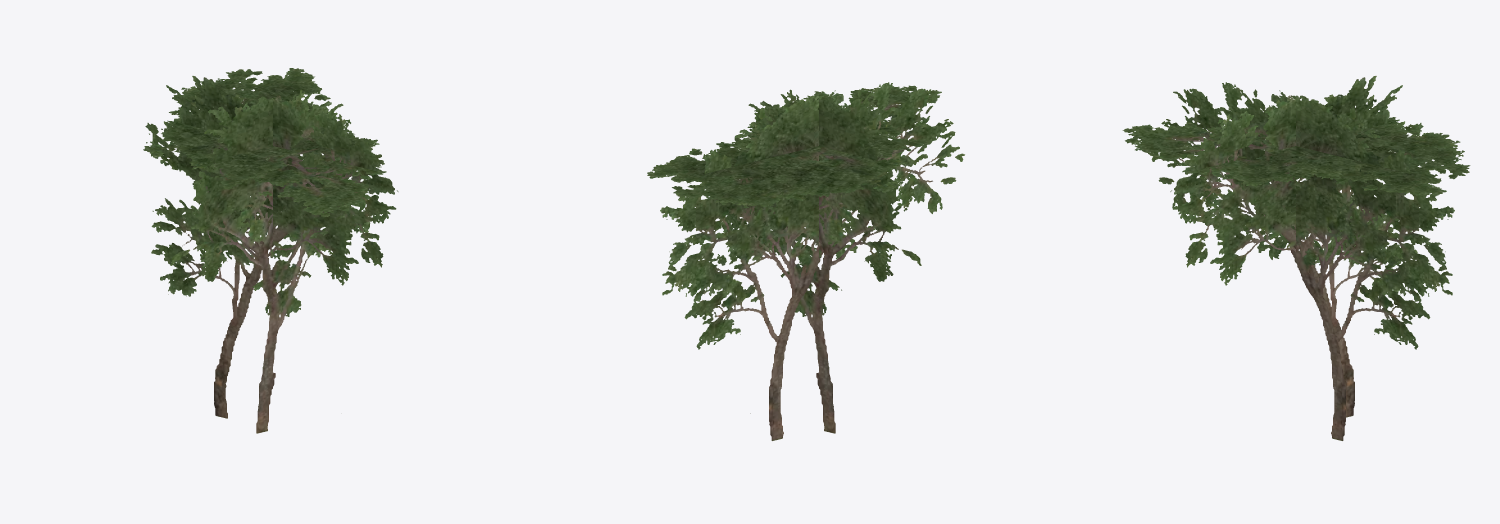
The picture shows the model from 3 angles, left to right: view 1: azimuth 30°, elevation 25°; view 2: azimuth 150°, elevation 25°; view 3: azimuth 270°, elevation 25°; orthographic projection.
Visible parts, largest first — view 1: tree; view 2: tree; view 3: tree.
Boxes of the visible parts, <box> form: tree: <box>143,68,398,433</box>; tree: <box>647,82,964,440</box>; tree: <box>1122,76,1470,440</box>.
Size of the model in its own units: 4.66 by 4.56 by 4.66.
1 material, 1 textured.
